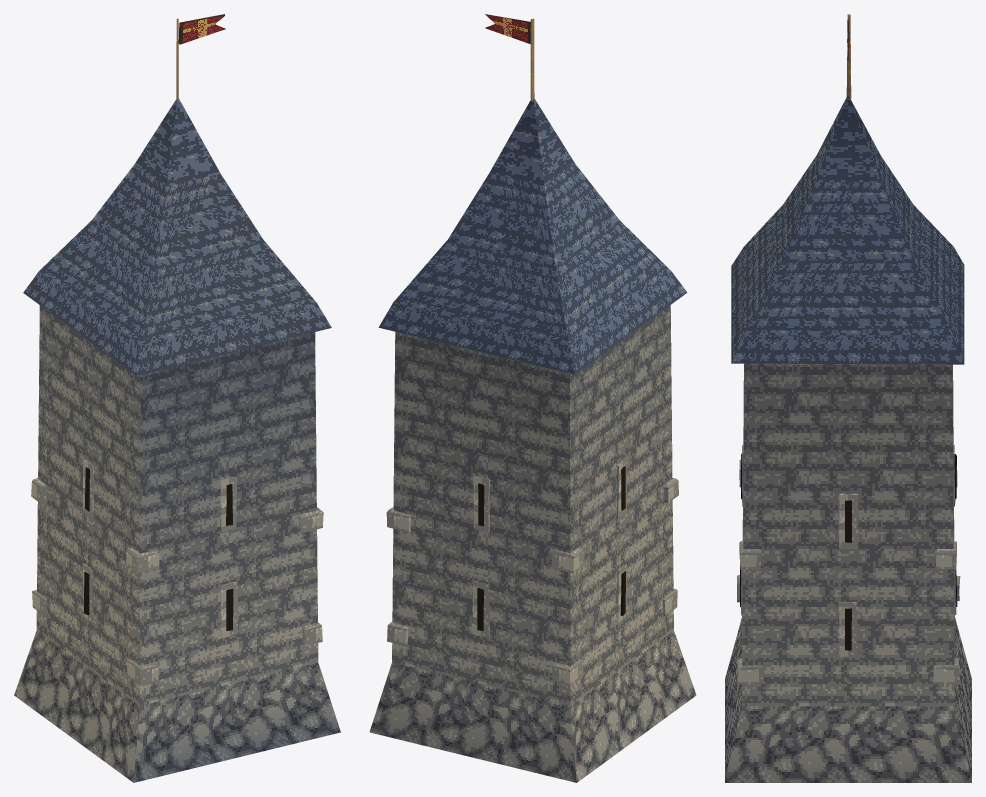
Rendered from cst.tower_square__roofed.glb.
The picture shows the model from 3 angles, left to right: view 1: azimuth 30°, elevation 25°; view 2: azimuth 150°, elevation 25°; view 3: azimuth 270°, elevation 25°; orthographic projection. The views are drawn at different scales.
Visible parts, largest first — view 1: kit_shaft, kit_top, kit_detail; view 2: kit_shaft, kit_top, kit_detail; view 3: kit_shaft, kit_top, kit_detail.
Part boxes in pixels (x1,y1,x2,y2): kit_shaft: (14,305,340,782); kit_top: (23,98,331,375); kit_detail: (31,14,323,685); kit_shaft: (369,305,696,782); kit_top: (378,99,687,374); kit_detail: (386,14,678,685); kit_shaft: (725,363,971,782); kit_top: (731,96,964,364); kit_detail: (737,14,960,684).
Size of the model in its own units: 5.8 by 18.58 by 5.8.
7 materials, 7 textured.
